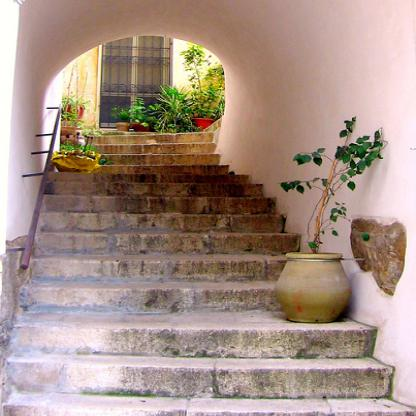stairs: (45, 226, 276, 416)
